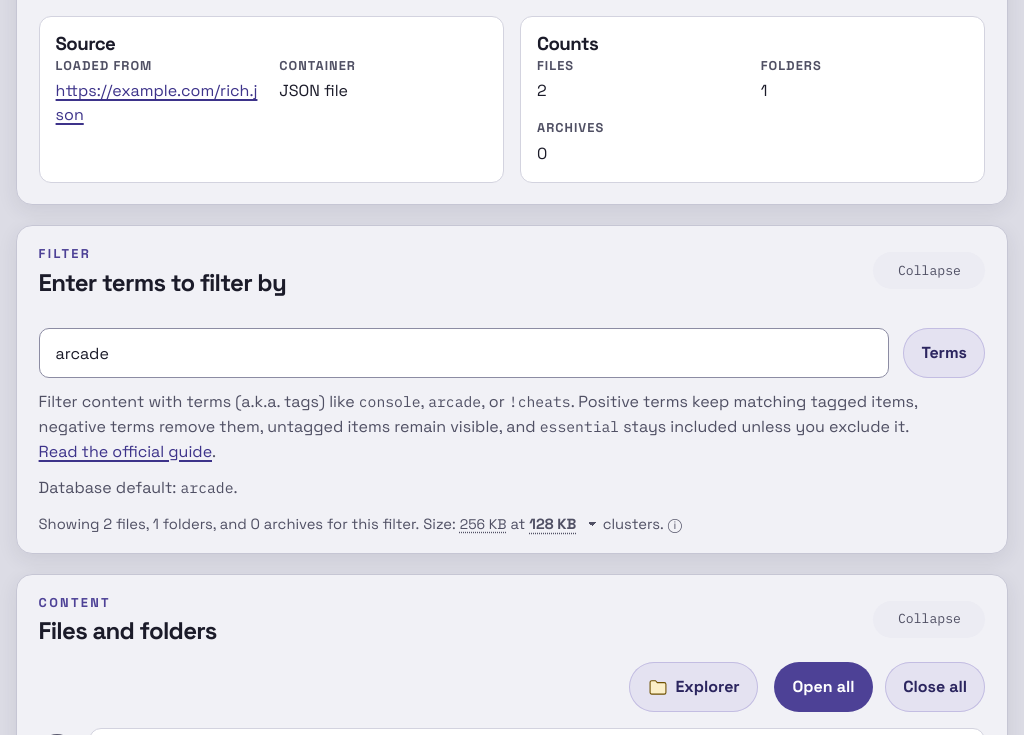
Scenario: the page and the app model › a shared link opens its database with its default FILTER, and FILTER follows into the address
(page scrolled)
Clear the text box named "FILTER": {"x": 464, "y": 353} [39, 328, 889, 378]
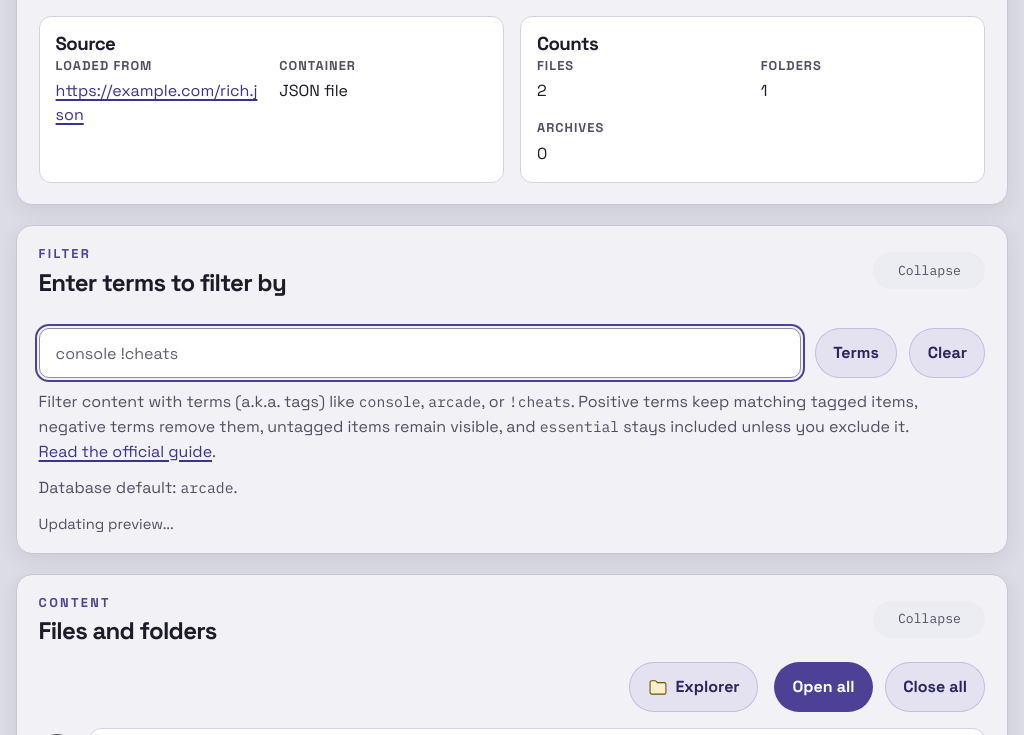
In the text box named "FILTER": {"x": 420, "y": 353} [39, 328, 800, 378], type "essential"
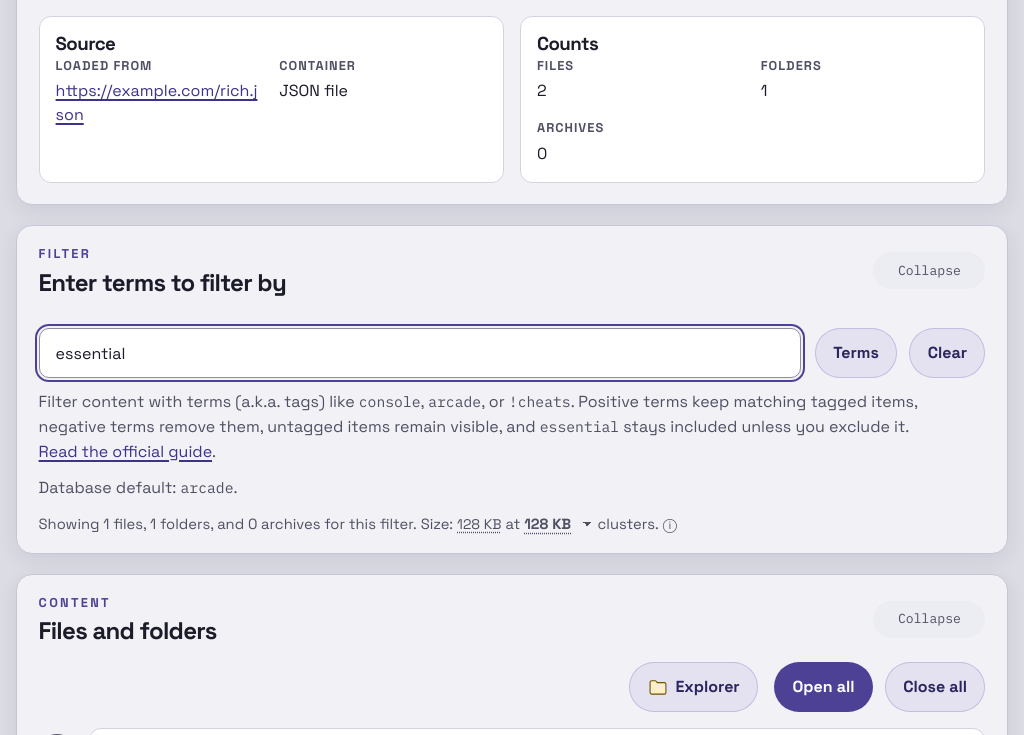
# Clear brings back the default, which the link leaves out.
Click the button "Clear": {"x": 947, "y": 353} [909, 328, 985, 378]
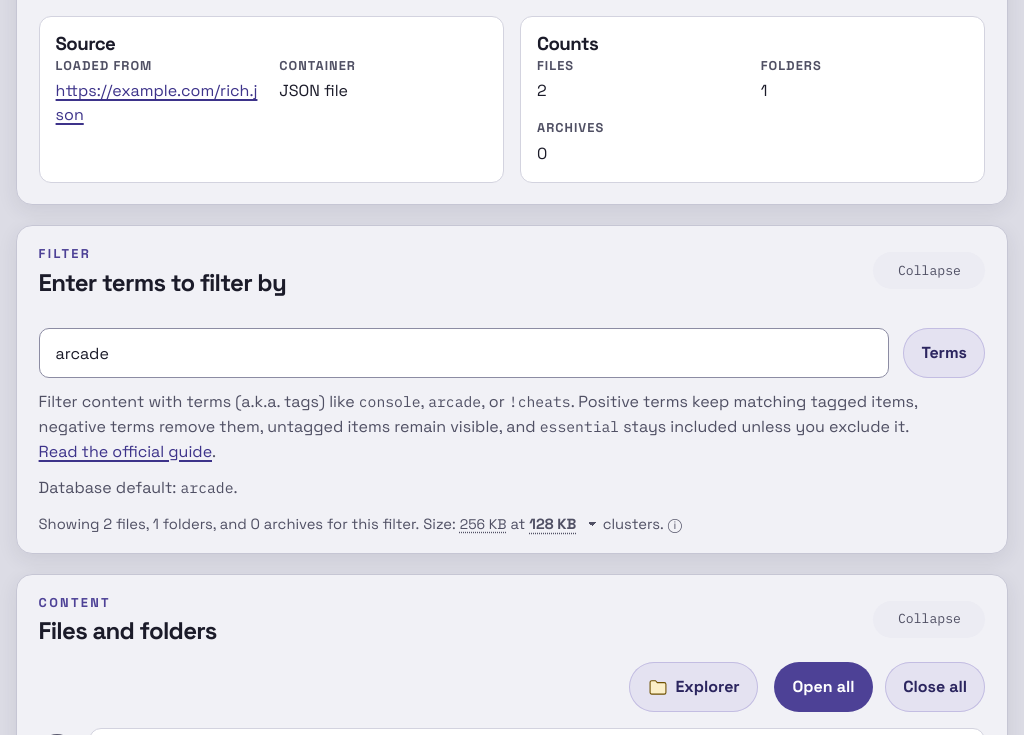
Check: the text box named "FILTER" holds "arcade", box [39, 328, 889, 378]
